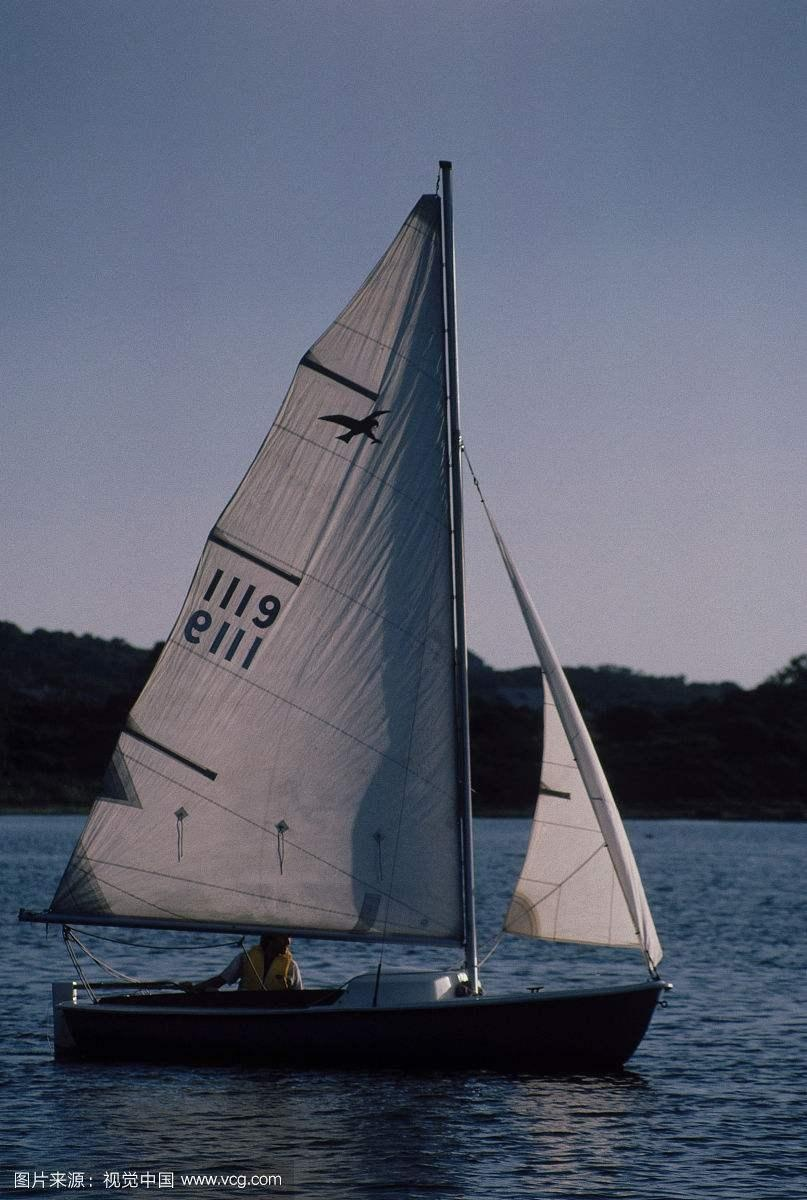fanchuan: (19, 139, 678, 1073)
